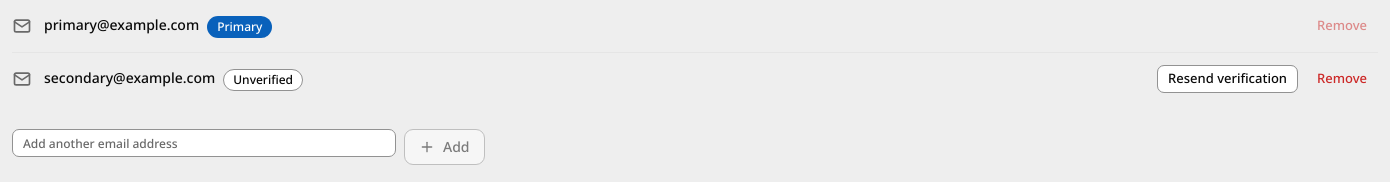
Scenario: EmailAddressesSettings — actions › removes a non-primary email
Click the button with test id "email-remove-2": (1342, 79) [1306,65,1378,93]
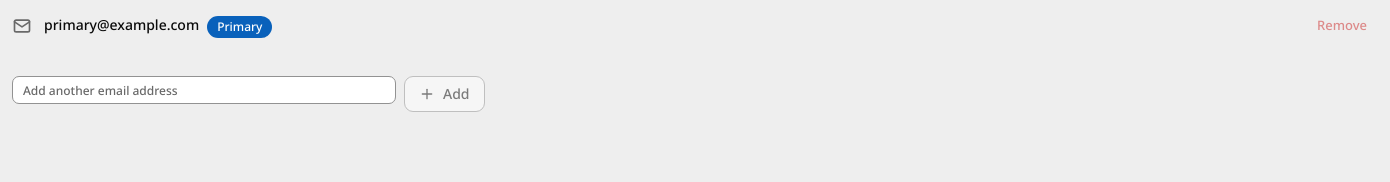
Expected: the list item with test id "email-row-2" is gone
